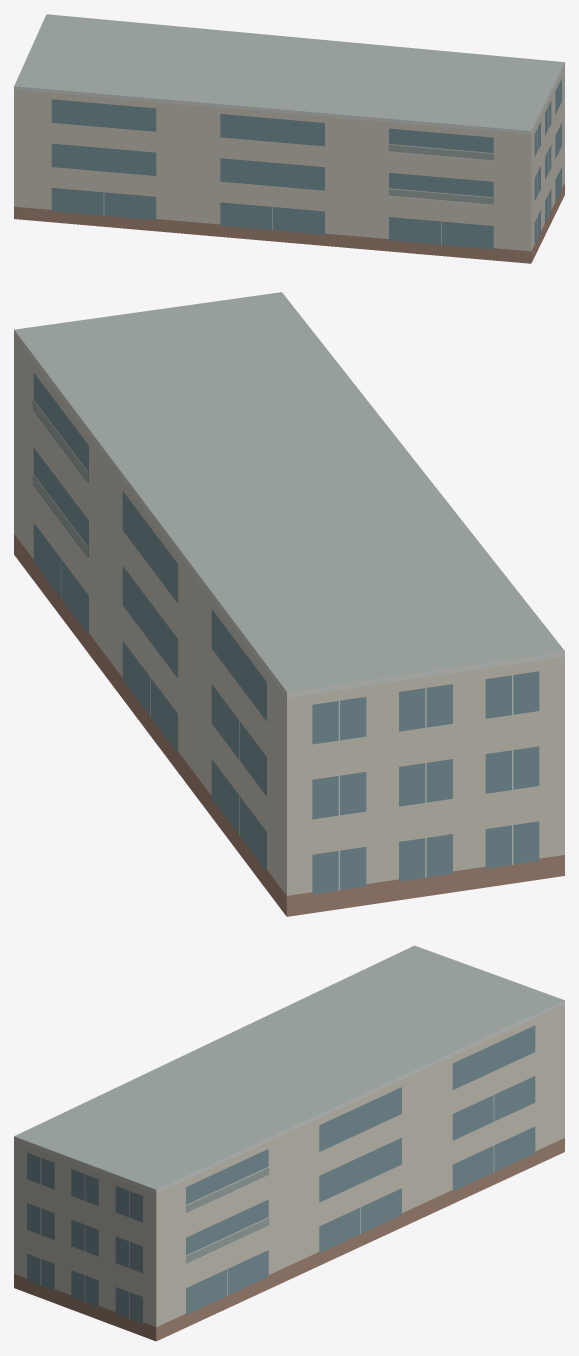
File: survey-upis-32769880.glb
The picture shows the model from 3 angles, top to bottom: view 1: azimuth 30°, elevation 25°; view 2: azimuth 150°, elevation 25°; view 3: azimuth 270°, elevation 25°; orthographic projection. The views are drawn at different scales.
Parts seen in each view (by area): view 1: survey-upis-32769880.tmp; view 2: survey-upis-32769880.tmp; view 3: survey-upis-32769880.tmp.
Part boxes in pixels (<box>): survey-upis-32769880.tmp: <box>14,14,564,263</box>; survey-upis-32769880.tmp: <box>14,292,564,916</box>; survey-upis-32769880.tmp: <box>14,945,564,1341</box>.
Size of the model in its own units: 31.6 by 9.15 by 30.12.
